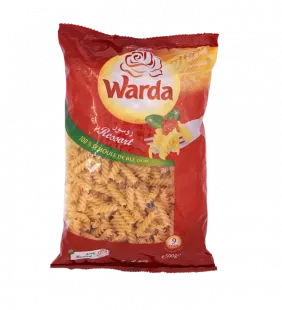LA ROSE BLANCHE: (43, 14, 229, 285)
